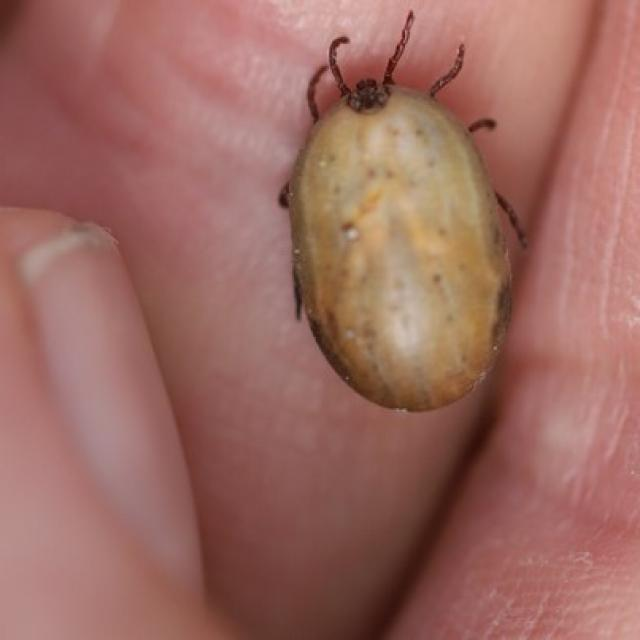Dermacentor Reticulatus-F-Fed: (278, 12, 521, 415)
